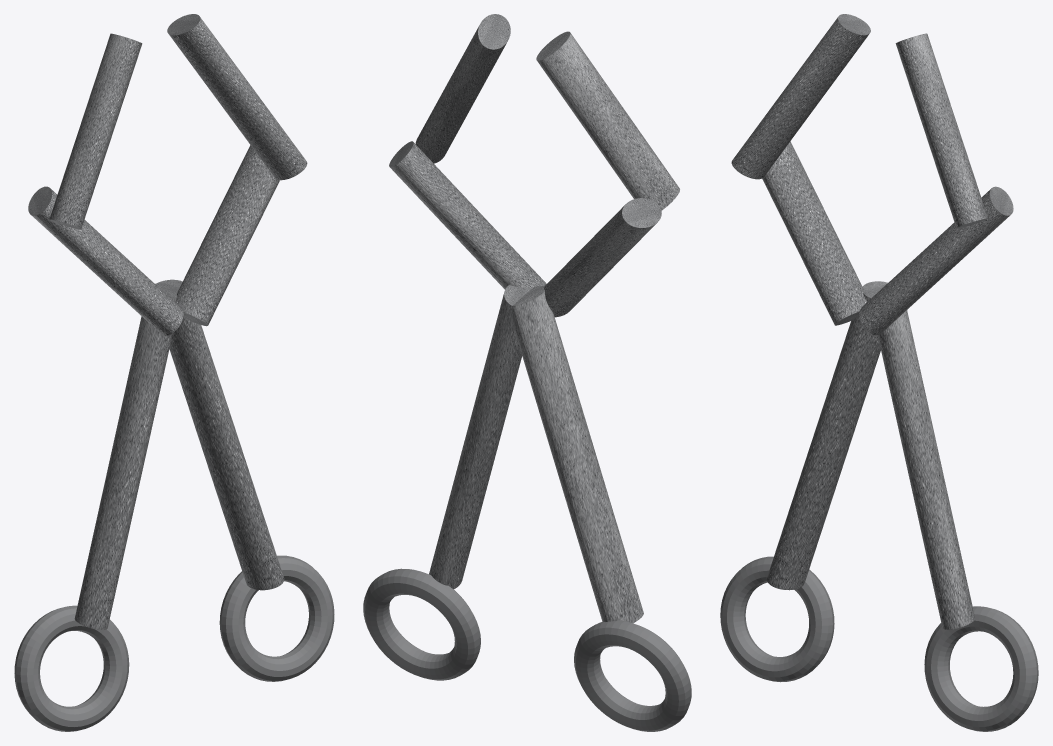
The model's file is pinzas.fbx.
The picture shows the model from 3 angles, left to right: view 1: azimuth 30°, elevation 25°; view 2: azimuth 150°, elevation 25°; view 3: azimuth 330°, elevation 25°; orthographic projection. The views are drawn at different scales.
Visible parts, largest first — view 1: Cilindro.004; view 2: Cilindro.004; view 3: Cilindro.004.
Part boxes in pixels (x1,y1,x2,y2): Cilindro.004: [14, 14, 334, 731]; Cilindro.004: [363, 14, 691, 731]; Cilindro.004: [720, 14, 1038, 731].
Size of the model in its own units: 714 by 1451 by 174.
Materials: 1 (1 with a texture image).
